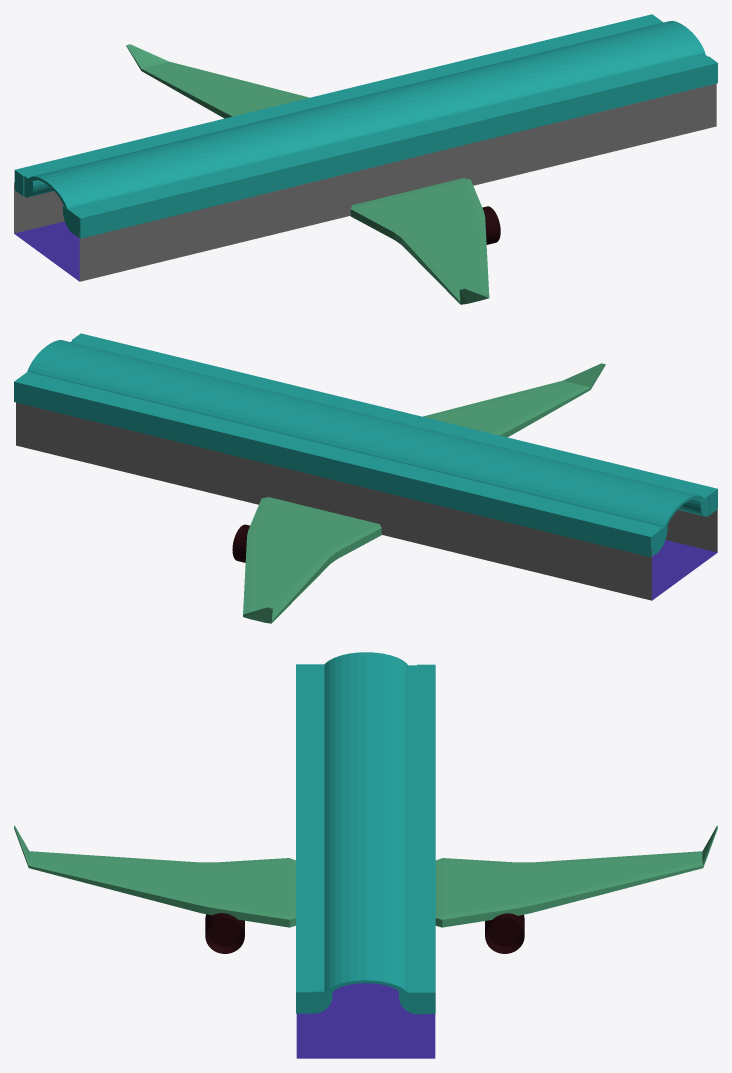
3 renders of one model, top to bottom at view 1: azimuth 30°, elevation 25°; view 2: azimuth 150°, elevation 25°; view 3: azimuth 270°, elevation 25°, orthographic. The views are drawn at different scales.
Parts seen in each view (by area): view 1: Wall_4_Plane.005, Roof_Cylinder.003, Wall_Plane.001, Roof_2_Cylinder.005, Cabin_Luggage_Cylinder.001, Cabin_Luggage_4_Cylinder.007, Wing_Left.001_Cube.010, Wing_Left_Cube.009, Cabin_Luggage_2_Cylinder.002, Cabin_Luggage_3_Cylinder.006, Floor_Plane, Wall_2_Plane.003 (+1 smaller); view 2: Wall_2_Plane.003, Roof_Cylinder.003, Roof_2_Cylinder.005, Wall_3_Plane.004, Cabin_Luggage_2_Cylinder.002, Cabin_Luggage_3_Cylinder.006, Wing_Left_Cube.009, Wing_Left.001_Cube.010, Cabin_Luggage_Cylinder.001, Cabin_Luggage_4_Cylinder.007, Floor_Plane, Wall_Plane.001 (+1 smaller); view 3: Roof_Cylinder.003, Roof_2_Cylinder.005, Wing_Left_Cube.009, Wing_Left.001_Cube.010, Roof_2.001_Plane.006, Cabin_Luggage_4_Cylinder.007, Cabin_Luggage_3_Cylinder.006, Cabin_Luggage_2_Cylinder.002, Cabin_Luggage_Cylinder.001, Cylinder.001_Cylinder.009, Cylinder_Cylinder.008.
Part boxes in pixels (<box>): Wall_4_Plane.005: <box>391,83,716,195</box>; Roof_Cylinder.003: <box>27,96,392,208</box>; Wall_Plane.001: <box>79,163,390,281</box>; Roof_2_Cylinder.005: <box>347,21,705,132</box>; Cabin_Luggage_Cylinder.001: <box>63,132,406,238</box>; Cabin_Luggage_4_Cylinder.007: <box>378,53,717,162</box>; Wing_Left.001_Cube.010: <box>350,178,489,304</box>; Wing_Left_Cube.009: <box>126,44,309,118</box>; Cabin_Luggage_2_Cylinder.002: <box>14,90,351,197</box>; Cabin_Luggage_3_Cylinder.006: <box>341,14,663,98</box>; Floor_Plane: <box>14,221,79,281</box>; Wall_2_Plane.003: <box>14,182,64,233</box>; Wall_2_Plane.003: <box>327,478,651,600</box>; Roof_Cylinder.003: <box>338,416,703,528</box>; Roof_2_Cylinder.005: <box>27,340,377,451</box>; Wall_3_Plane.004: <box>16,402,326,510</box>; Cabin_Luggage_2_Cylinder.002: <box>325,448,667,557</box>; Cabin_Luggage_3_Cylinder.006: <box>14,372,337,477</box>; Wing_Left_Cube.009: <box>243,497,381,623</box>; Wing_Left.001_Cube.010: <box>423,363,605,437</box>; Cabin_Luggage_Cylinder.001: <box>388,409,717,516</box>; Cabin_Luggage_4_Cylinder.007: <box>70,333,402,421</box>; Floor_Plane: <box>652,540,717,600</box>; Wall_Plane.001: <box>665,509,717,552</box>; Roof_Cylinder.003: <box>324,652,407,829</box>; Roof_2_Cylinder.005: <box>323,818,408,993</box>; Wing_Left_Cube.009: <box>435,825,717,927</box>; Wing_Left.001_Cube.010: <box>14,825,295,927</box>; Roof_2.001_Plane.006: <box>296,983,435,1058</box>; Cabin_Luggage_4_Cylinder.007: <box>296,824,332,1013</box>; Cabin_Luggage_3_Cylinder.006: <box>399,832,435,1014</box>; Cabin_Luggage_2_Cylinder.002: <box>407,664,435,832</box>; Cabin_Luggage_Cylinder.001: <box>296,664,324,831</box>; Cylinder.001_Cylinder.009: <box>205,913,244,953</box>; Cylinder_Cylinder.008: <box>485,913,524,953</box>.
Size of the model in its own units: 39.24 by 6.01 by 35.54.
